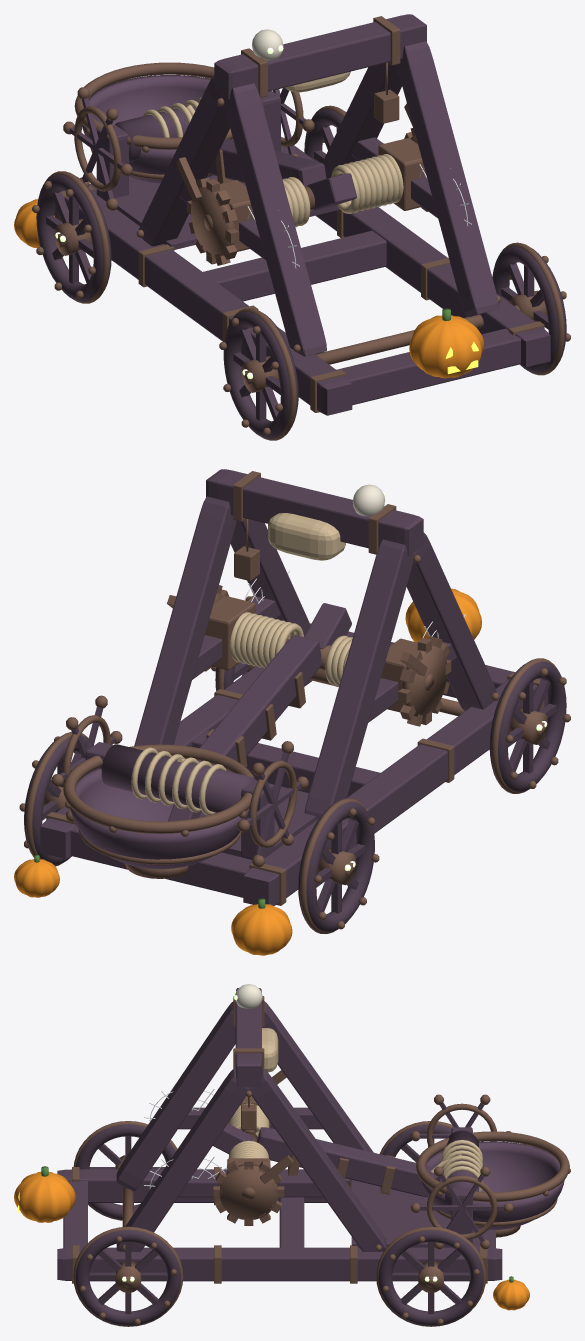
The model's file is dm_catapulthaunted.glb.
3 views of the same model, one above another, from view 1: azimuth 30°, elevation 25°; view 2: azimuth 150°, elevation 25°; view 3: azimuth 270°, elevation 25° (orthographic). The views are drawn at different scales.
Visible parts, largest first — view 1: Base_Wood_FrameFront.001, Base_Wood_FrameFront, Base_Wood_Rail, Base_Wood_StopBar, Base_Wood_Rail.001, Base_Wood_FrameBack, Base_Wood_CrossBeam.001, Arm_Wood_Bucket, Base_Wood_CrossBeam, Base_Wood_WheelRim, Base_Wood_WheelRim.001, Base_SmoothPlastic_Pumpkin (+28 smaller); view 2: Base_Wood_FrameBack, Base_Wood_Rail, Base_Wood_FrameBack.001, Arm_Wood_Bucket, Base_Wood_StopBar, Base_Wood_FrameFront, Arm_Wood_ArmBeam, Base_Wood_WinchDrum, Arm_CorrodedMetal_BucketRim, Base_Wood_WheelRim, Base_Wood_WheelRim.001, Base_Wood_Rail.001 (+26 smaller); view 3: Base_Wood_Rail.001, Base_Wood_FrameBack.001, Base_Wood_FrameFront, Arm_Wood_Bucket, Base_Wood_FrameFront.001, Base_Wood_FrameBack, Base_Wood_WheelRim.003, Base_Wood_WheelRim.002, Arm_Wood_ArmBeam, Arm_CorrodedMetal_BucketRim, Base_SmoothPlastic_Pumpkin, Base_Wood_Rail (+26 smaller).
Boxes of the visible parts, x1,y1,x2,y2 form: Base_Wood_FrameFront.001: (396,41,498,316); Base_Wood_FrameFront: (222,83,326,356); Base_Wood_Rail: (54,190,352,415); Base_Wood_StopBar: (214,14,426,99); Base_Wood_Rail.001: (281,137,550,367); Base_Wood_FrameBack: (139,76,229,246); Base_Wood_CrossBeam.001: (203,230,386,301); Arm_Wood_Bucket: (82,75,233,183); Base_Wood_CrossBeam: (336,328,520,405); Base_Wood_WheelRim: (223,311,298,438); Base_Wood_WheelRim.001: (36,174,111,301); Base_SmoothPlastic_Pumpkin: (409,315,483,378); Base_Wood_FrameBack: (304,539,414,819); Base_Wood_Rail: (243,678,548,905); Base_Wood_FrameBack.001: (134,496,236,745); Arm_Wood_Bucket: (70,758,248,869); Base_Wood_StopBar: (206,469,423,556); Base_Wood_FrameFront: (406,532,496,710); Arm_Wood_ArmBeam: (197,635,321,765); Base_Wood_WinchDrum: (101,744,255,812); Arm_CorrodedMetal_BucketRim: (63,744,254,833); Base_Wood_WheelRim: (489,661,566,791); Base_Wood_WheelRim.001: (298,802,374,932); Base_Wood_Rail.001: (40,666,312,858); Base_Wood_Rail.001: (57,1247,502,1281); Base_Wood_FrameBack.001: (249,1068,386,1251); Base_Wood_FrameFront: (116,1001,235,1191); Arm_Wood_Bucket: (422,1141,564,1229); Base_Wood_FrameFront.001: (116,1068,248,1251); Base_Wood_FrameBack: (262,1001,373,1152); Base_Wood_WheelRim.003: (378,1230,483,1325); Base_Wood_WheelRim.002: (75,1230,180,1325); Arm_Wood_ArmBeam: (257,1127,436,1197); Arm_CorrodedMetal_BucketRim: (416,1131,569,1201); Base_SmoothPlastic_Pumpkin: (14,1171,75,1222); Base_Wood_Rail: (57,1169,349,1202).
Bounding box in the file's own units: 9.08 × 9.56 × 18.02.
